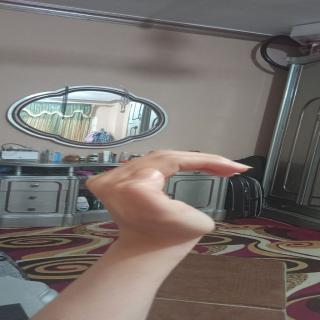HAA: (74, 148, 287, 246)
